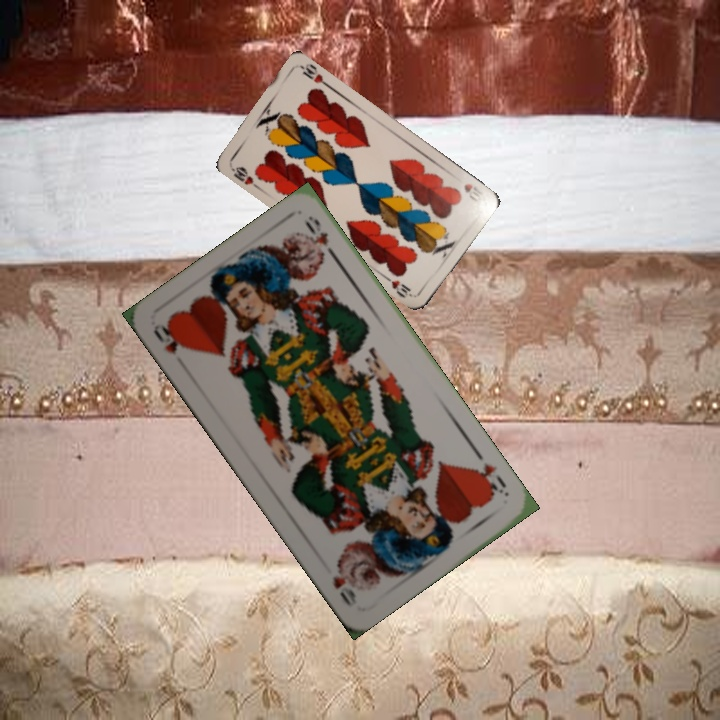H10: (227, 162, 262, 192), (460, 179, 484, 205)
HO: (469, 459, 512, 499), (149, 318, 189, 357)
